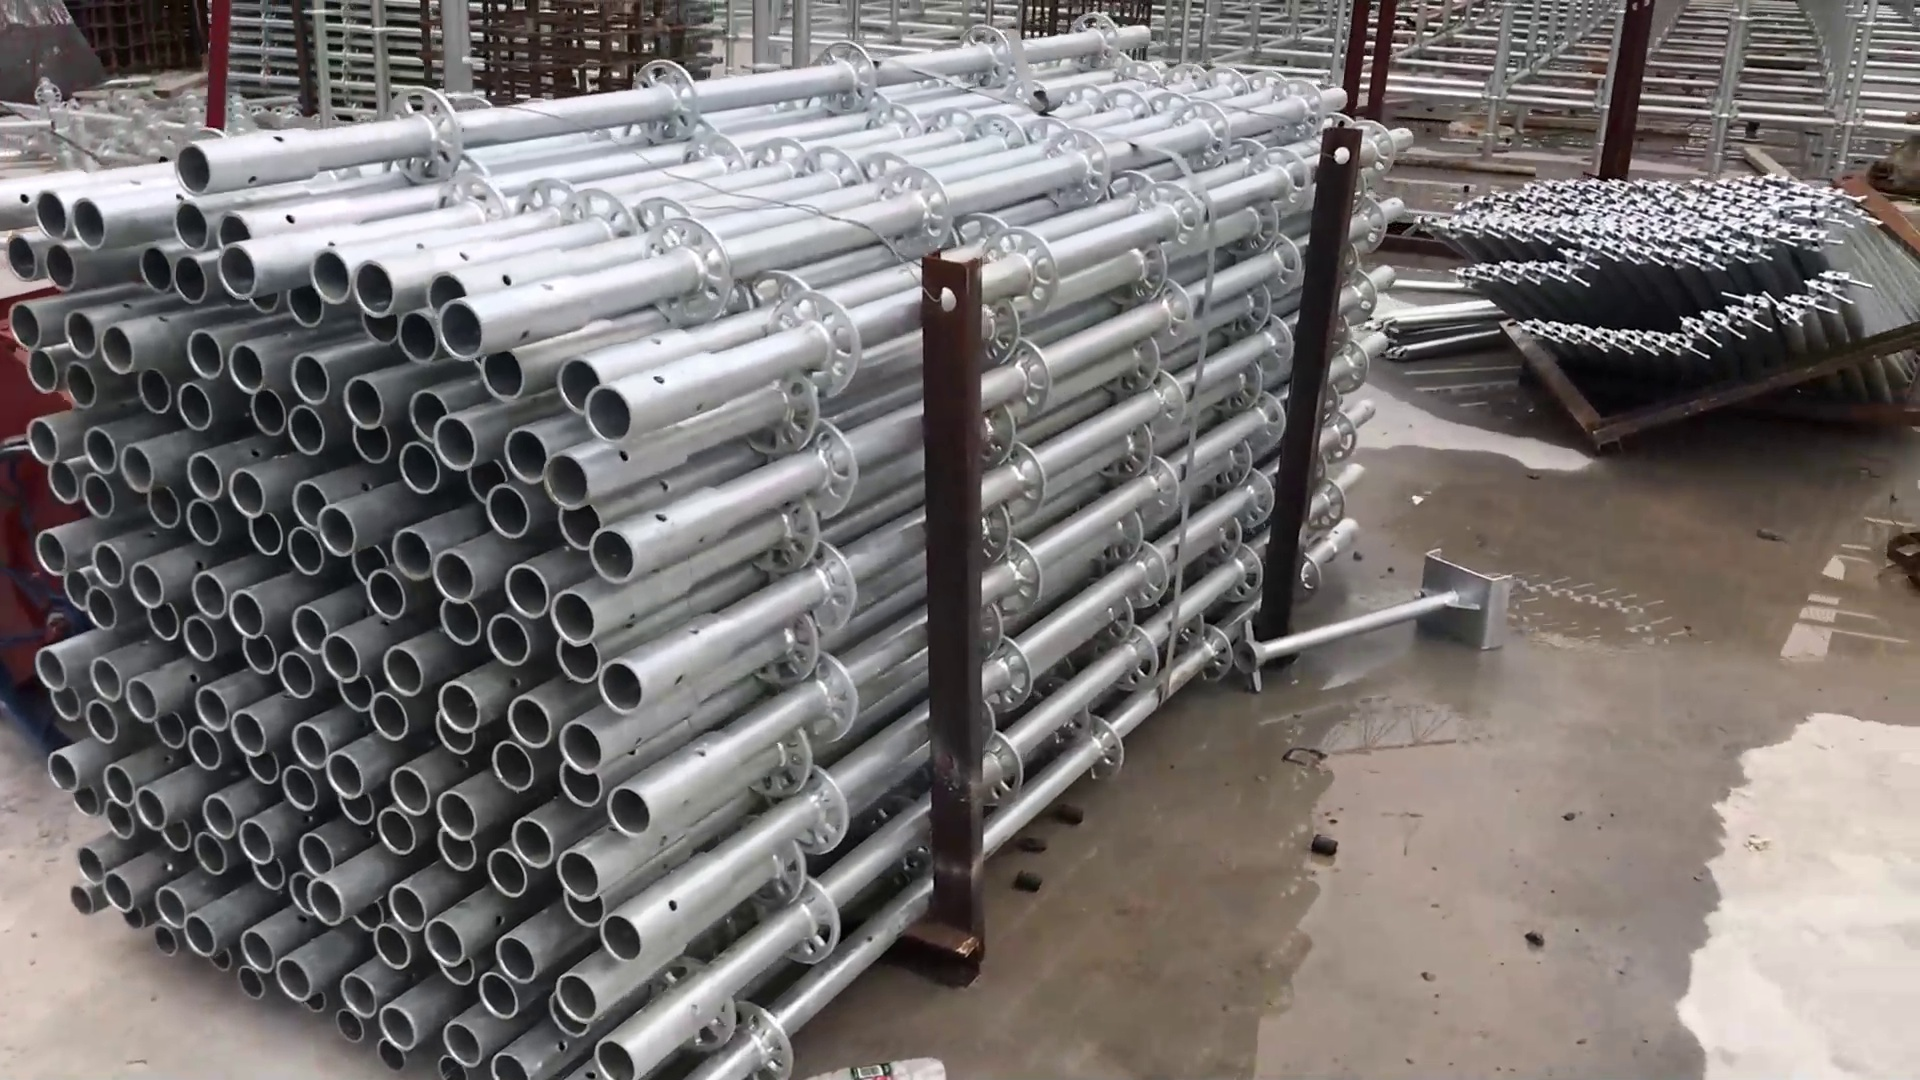scaffold: (3, 20, 1412, 1080), (1432, 171, 1895, 385)
